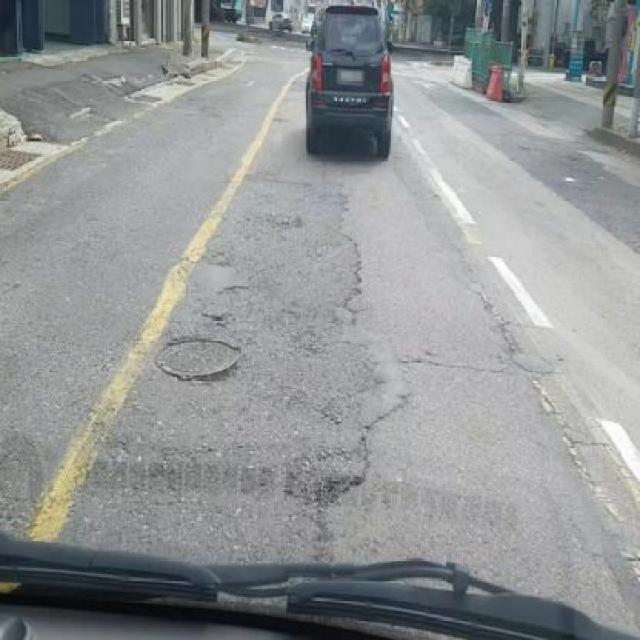Manhole: (154, 334, 242, 388), (0, 144, 38, 170)
Pothole: (311, 468, 364, 506)
